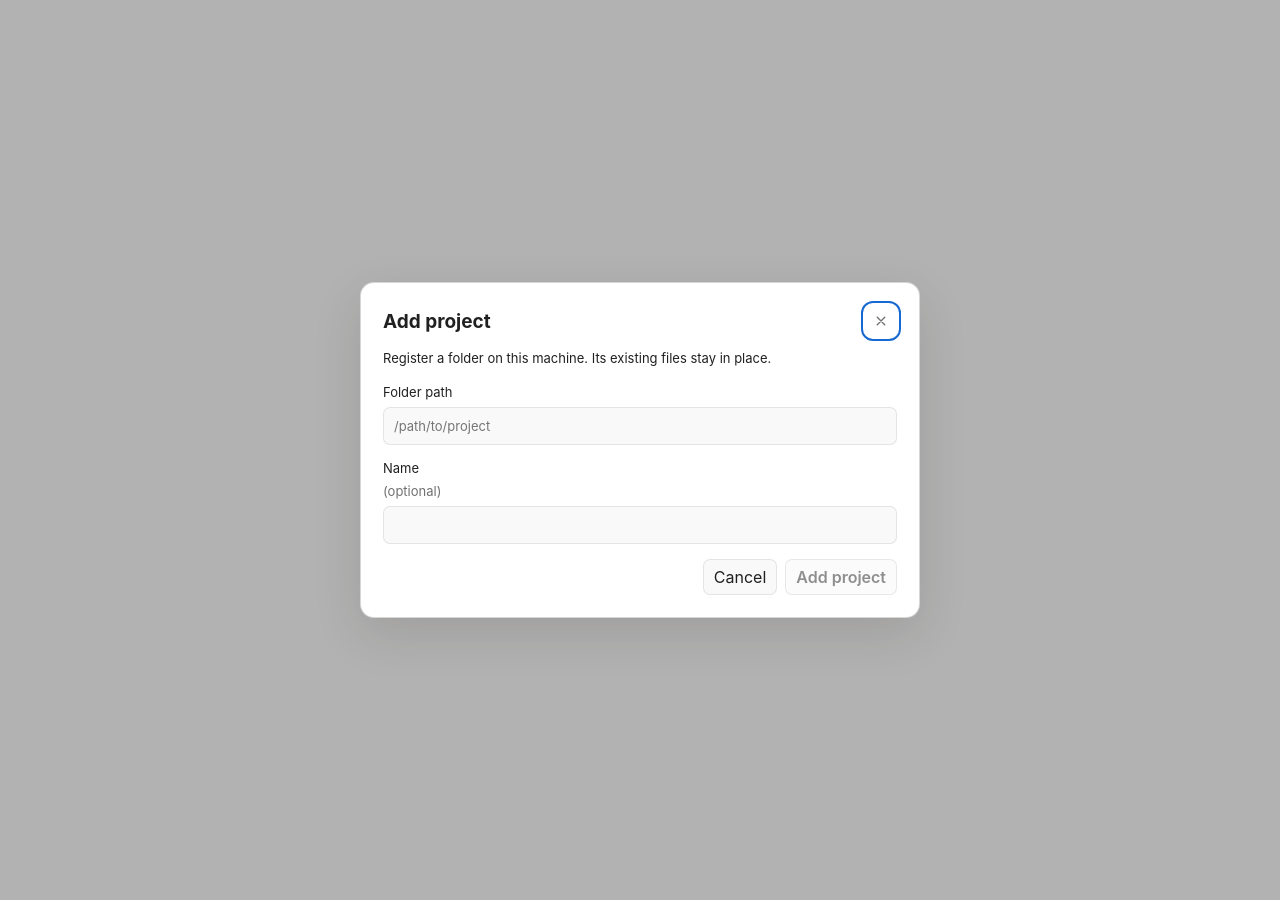
project workspace dialogs › keeps a registration draft on failure and prevents duplicate writes
Type "/missing" into the field labelled "Folder path".
click(640, 426); type("/missing")  # box [383,407,897,445]
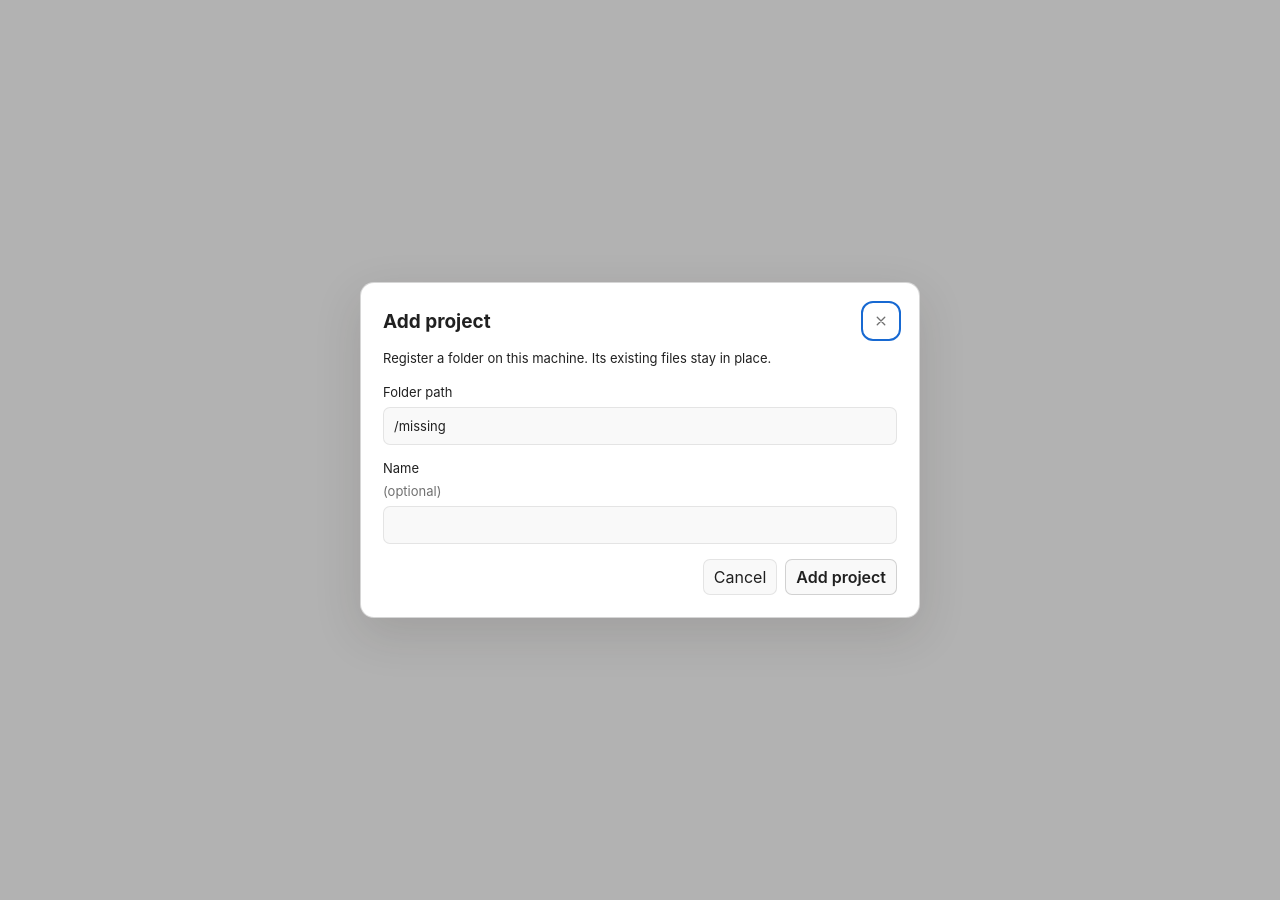
Click the button "Add project".
click(841, 577)  # box [785,559,897,595]
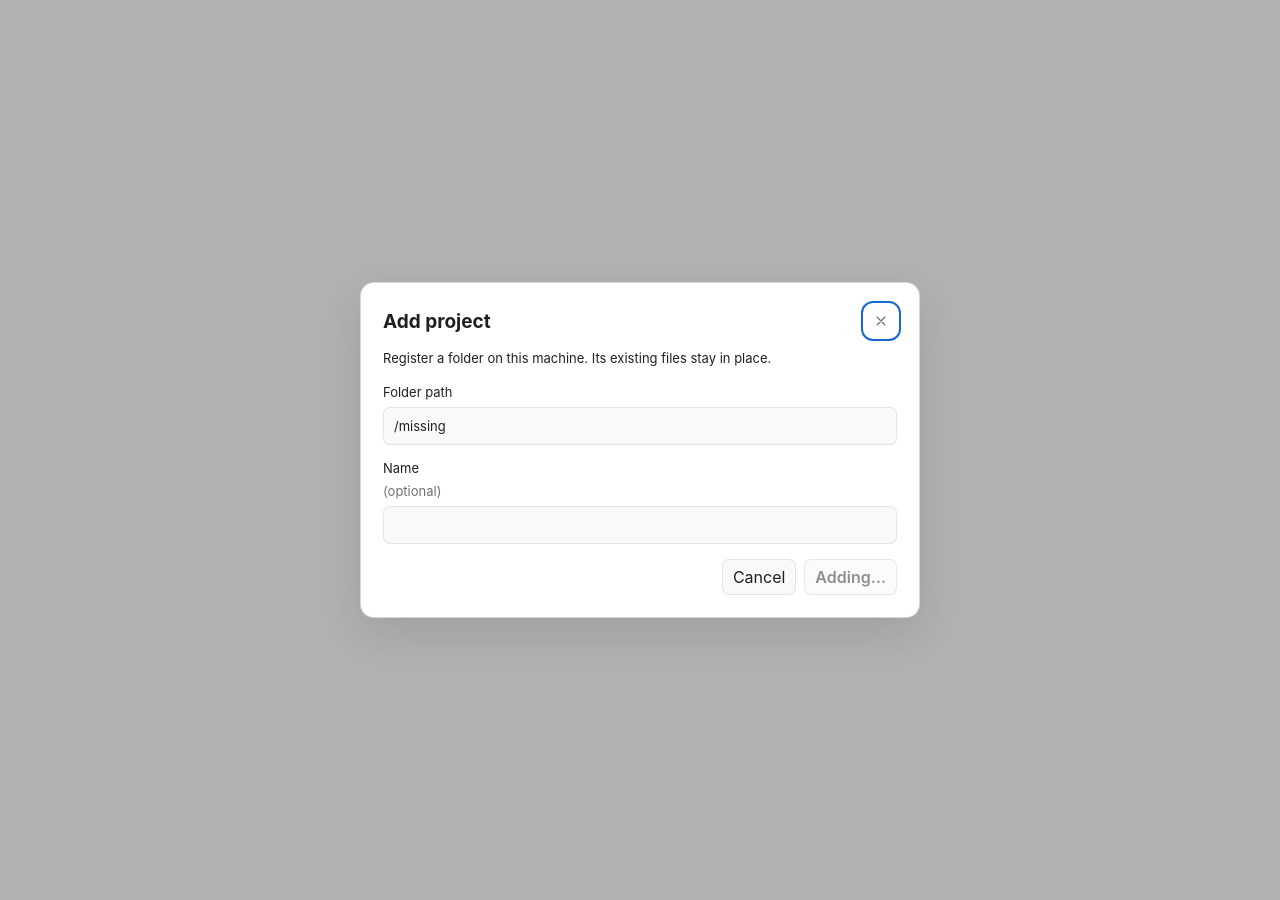
Submit the form "Folder path", box [383,349,897,595]
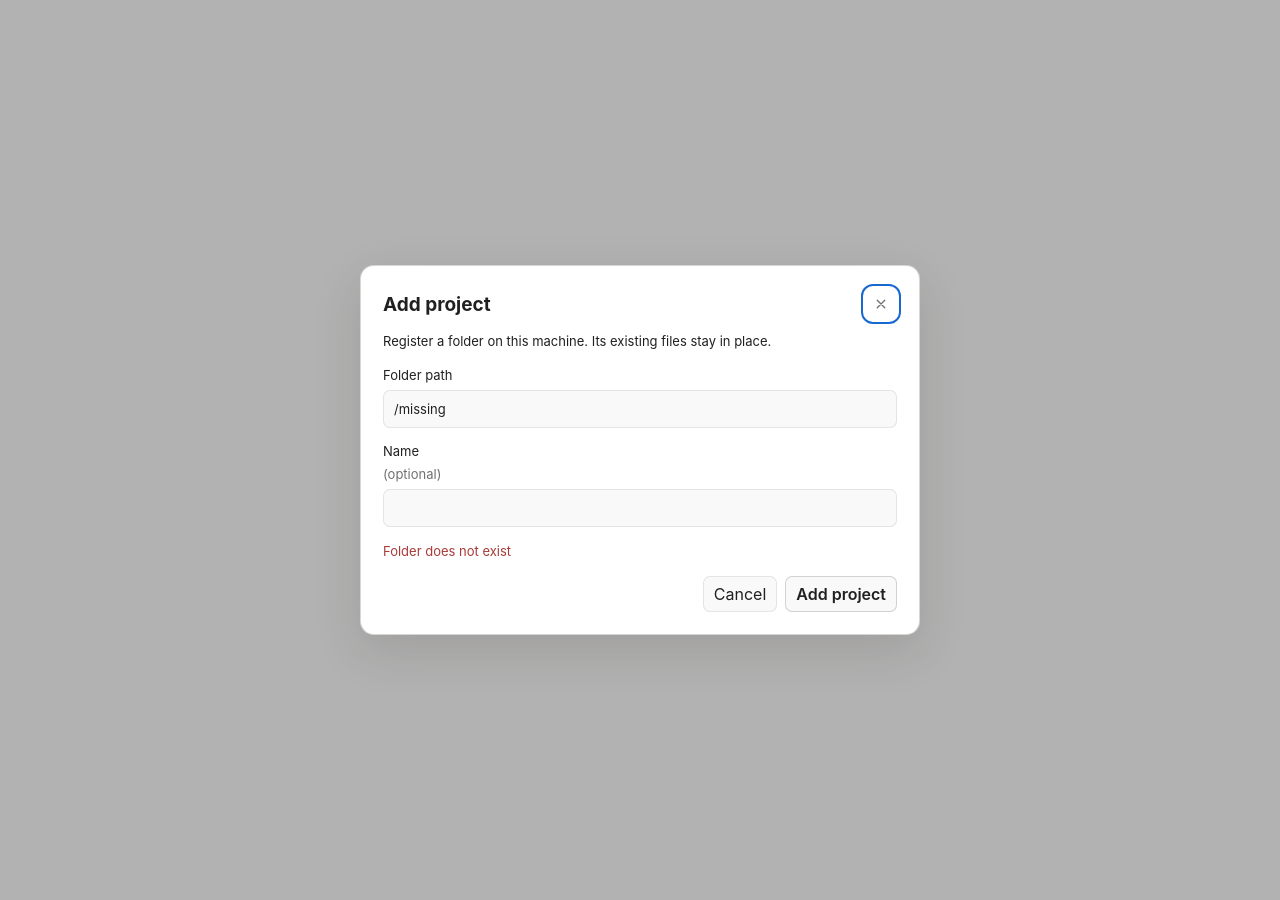
Result: the message reads "Folder does not exist" at [383,542,511,558]
